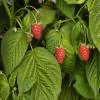Raspberry leaf: (17, 45, 62, 99)
